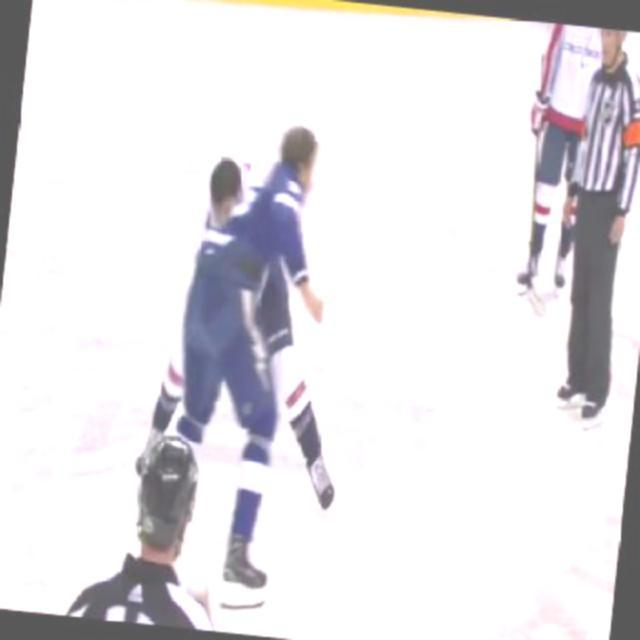fight: (140, 105, 354, 478)
non-fight: (538, 24, 638, 423)
